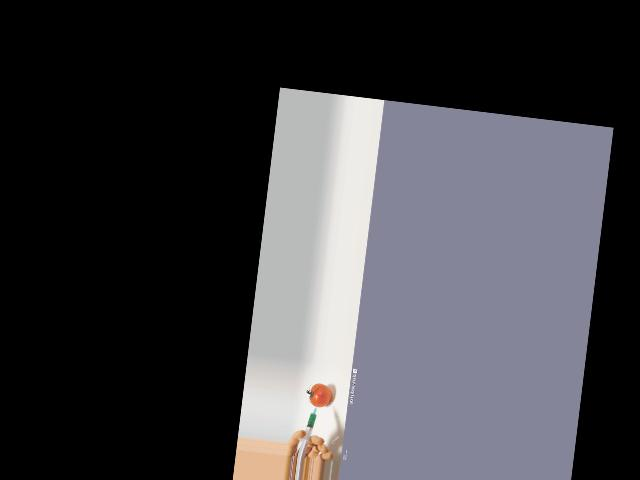tomato: (309, 383, 333, 408)
